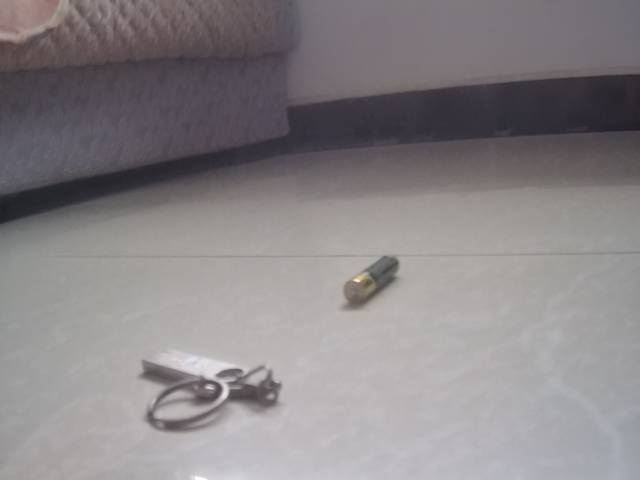U-disk: (130, 344, 291, 431)
battery: (340, 253, 403, 306)
